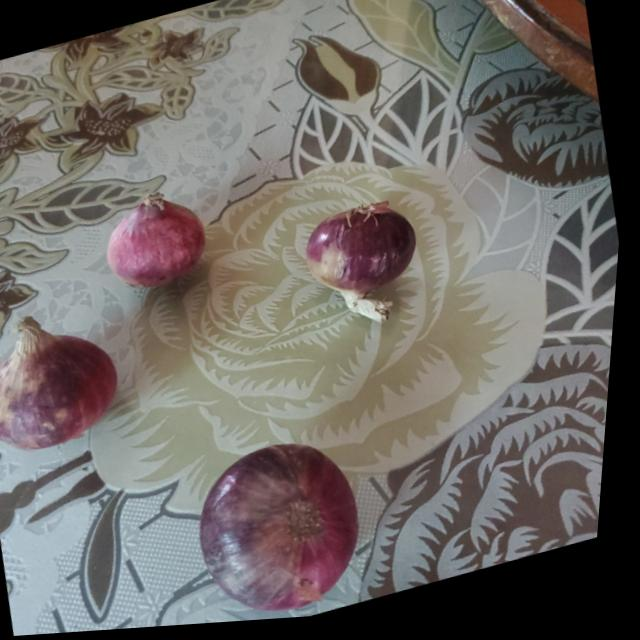onion: (188, 432, 387, 628), (0, 294, 138, 465), (303, 198, 432, 312), (99, 182, 218, 300)
